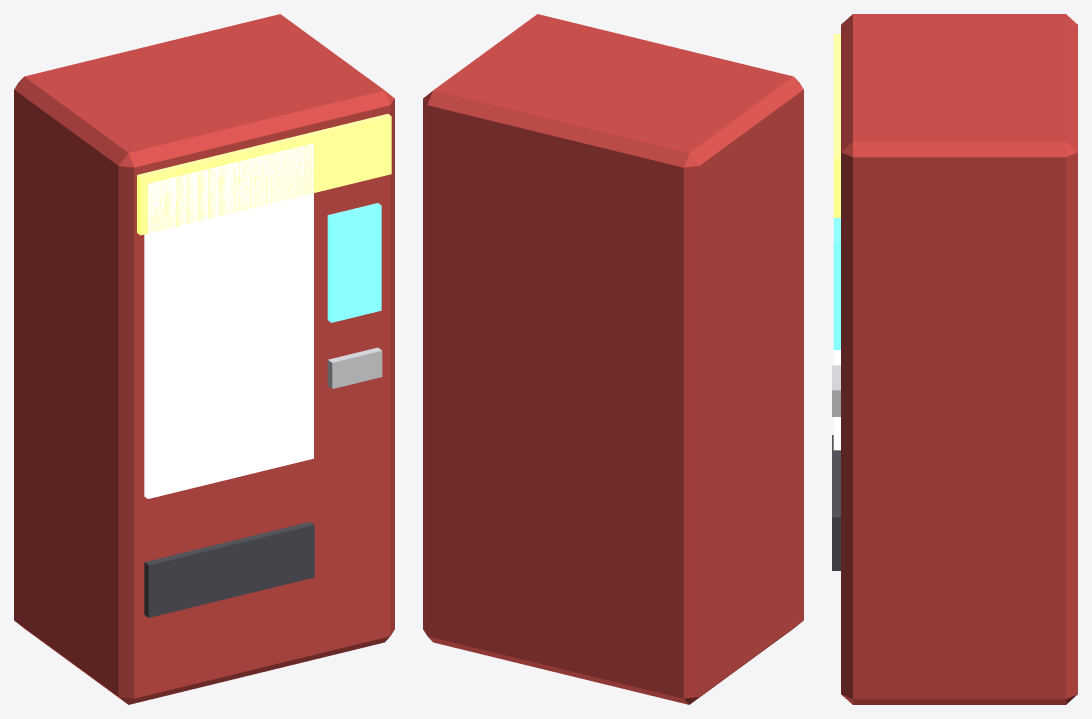
File: mp_vendor.glb
The picture shows the model from 3 angles, left to right: view 1: azimuth 30°, elevation 25°; view 2: azimuth 150°, elevation 25°; view 3: azimuth 270°, elevation 25°; orthographic projection. The views are drawn at different scales.
Visible parts, largest first — view 1: mp_vendor; view 2: mp_vendor; view 3: mp_vendor.
Part boxes in pixels (x1,y1,x2,y2): mp_vendor: (14, 14, 394, 704); mp_vendor: (423, 14, 803, 704); mp_vendor: (832, 14, 1077, 704).
Size of the model in its own units: 1.1 by 2.1 by 0.83.
